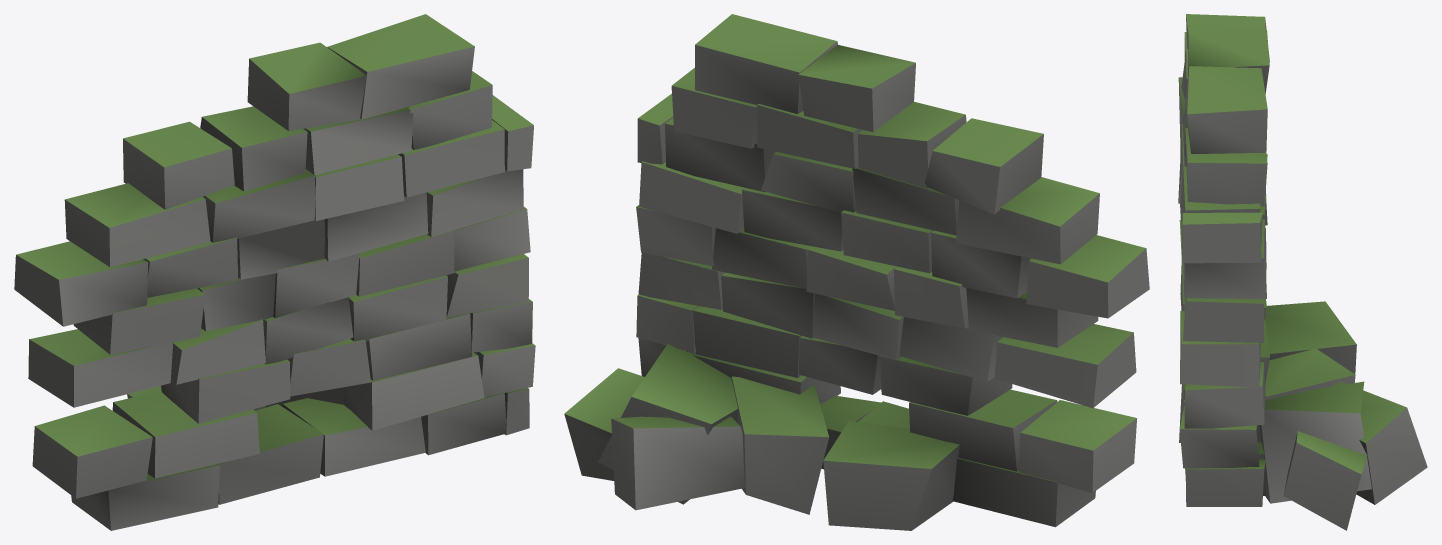
Rendered from obj_ruina_2.glb.
The picture shows the model from 3 angles, left to right: view 1: azimuth 30°, elevation 25°; view 2: azimuth 150°, elevation 25°; view 3: azimuth 270°, elevation 25°; orthographic projection. The views are drawn at different scales.
Visible parts, largest first — view 1: propforge-cuartos-ruina; view 2: propforge-cuartos-ruina; view 3: propforge-cuartos-ruina.
Part boxes in pixels (bbox=[...]): propforge-cuartos-ruina: bbox=[14, 14, 535, 530]; propforge-cuartos-ruina: bbox=[564, 14, 1149, 530]; propforge-cuartos-ruina: bbox=[1178, 14, 1427, 530].
Bounding box in the file's own units: 1.06 × 0.8654 × 0.4964.
